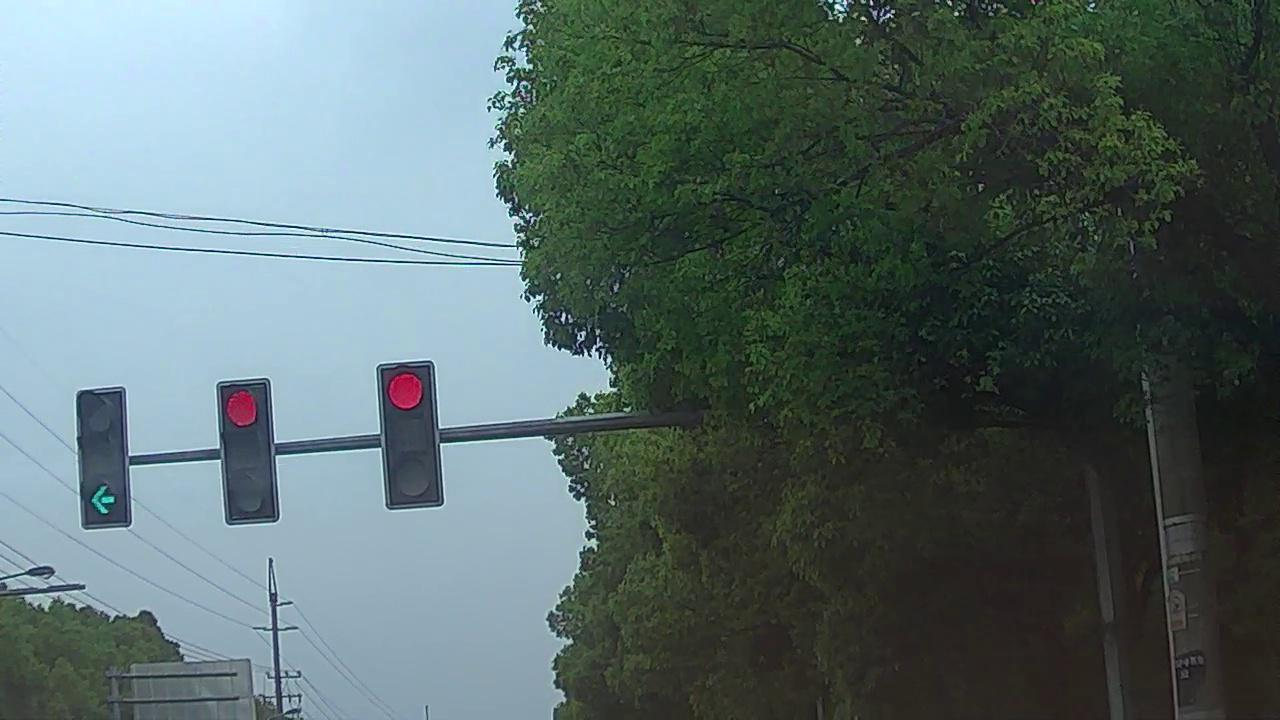traffic_light: (218, 384, 278, 520), (384, 366, 439, 509), (76, 395, 130, 527)
